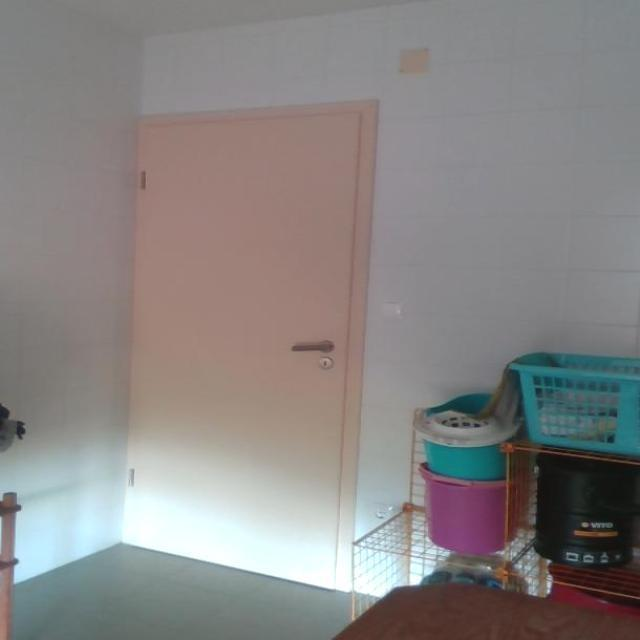door: (122, 98, 377, 592)
